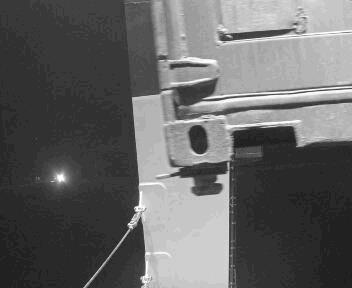twist_lock_1: (171, 156, 235, 202)
